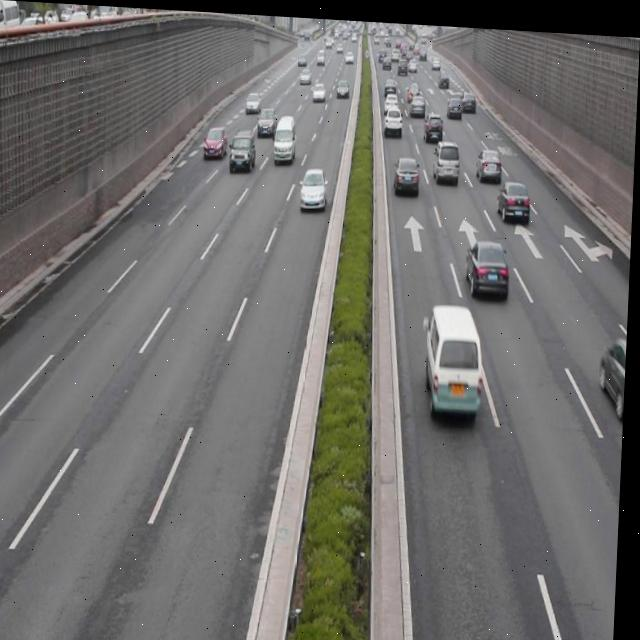car: (466, 234, 510, 294), (601, 327, 630, 410), (497, 172, 531, 217), (229, 125, 257, 170), (434, 134, 461, 179), (301, 163, 328, 208), (393, 152, 422, 193), (476, 140, 503, 179), (204, 121, 228, 156)
truck: (426, 298, 486, 409), (273, 111, 298, 161)
